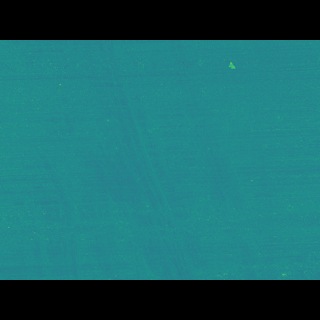Loch: (0, 74, 214, 249)
